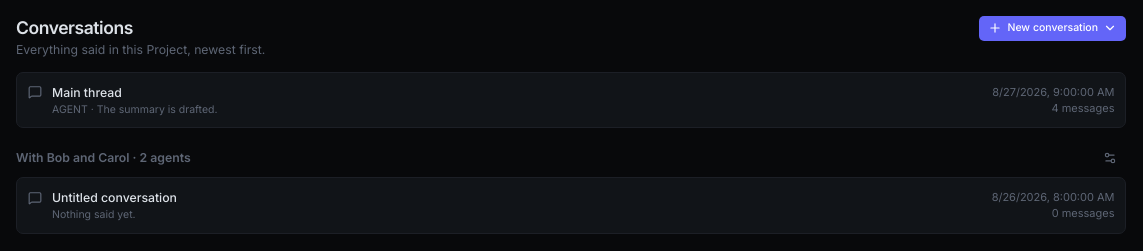
Scenario: Project conversations › offers exactly the two answers to "who should see this"
The image size is (1143, 251).
Click the button "New conversation": (1053, 28) [979, 16, 1126, 40]
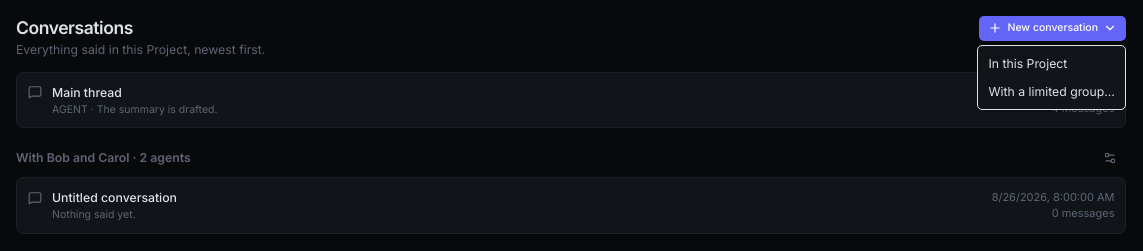
Now the menu item "In this Project" is shown, box [988, 56, 1067, 71]
Now the menu item "With a limited group…" is shown, box [988, 84, 1115, 99]
